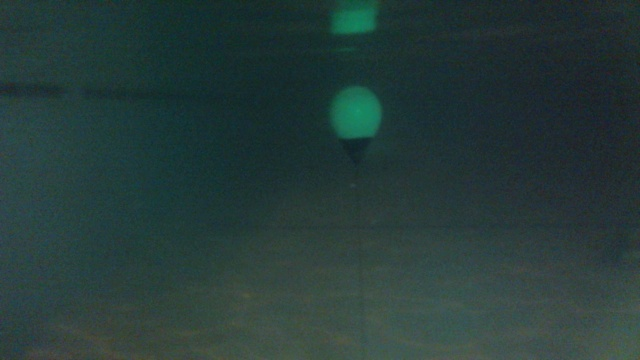buoy_green: (326, 80, 388, 168)
